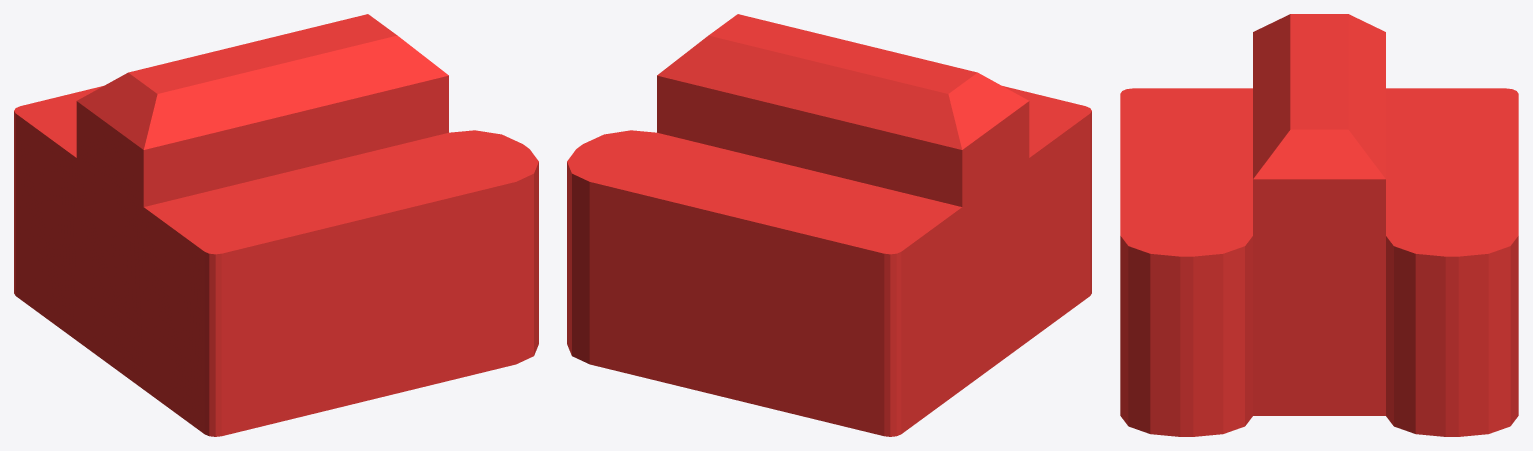
File: policeStation.fbx
3 renders of one model, left to right at view 1: azimuth 30°, elevation 25°; view 2: azimuth 150°, elevation 25°; view 3: azimuth 270°, elevation 25°, orthographic.
Visible parts, largest first — view 1: Cube; view 2: Cube; view 3: Cube.
Part boxes in pixels (bbox=[...]): Cube: bbox=[14, 14, 538, 436]; Cube: bbox=[567, 14, 1091, 436]; Cube: bbox=[1120, 14, 1518, 436].
Size of the model in its own units: 160 by 120 by 160.
